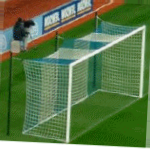goals: (19, 17, 149, 143)
